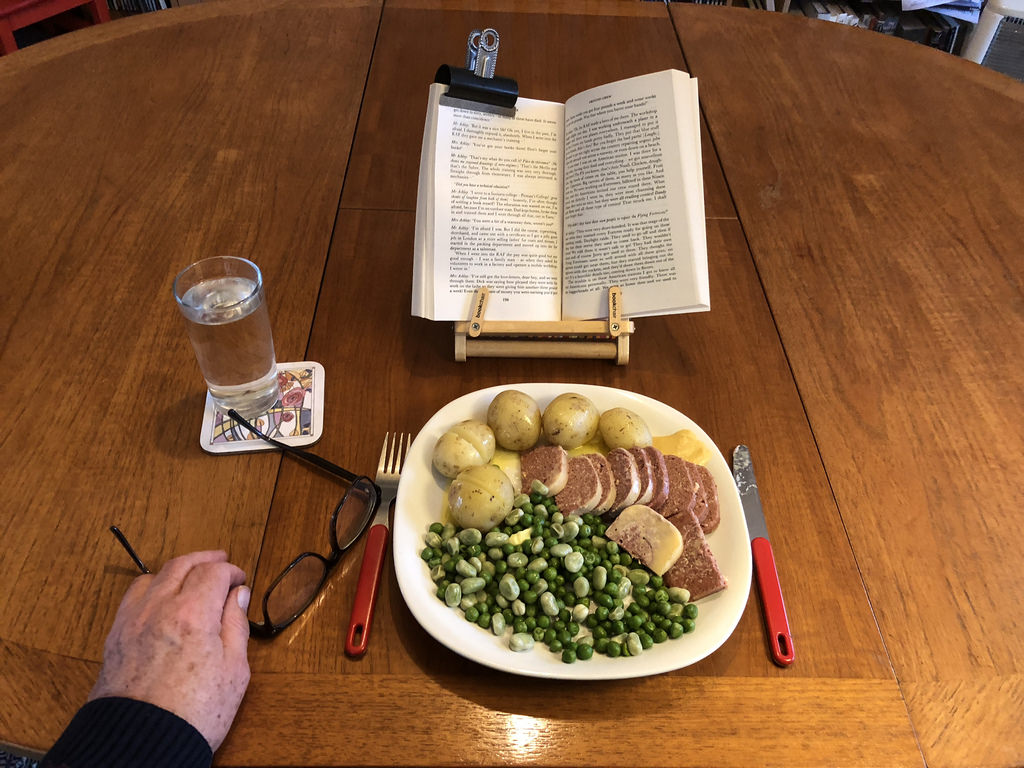boiled peas: (452, 543, 650, 648)
boiled potatoes: (432, 414, 514, 527)
